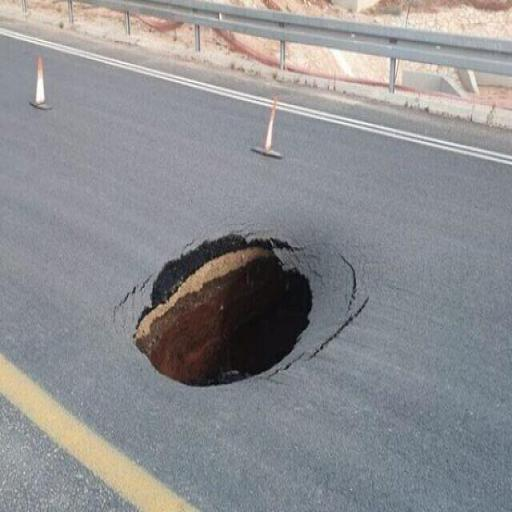Concentric_Crack: (134, 234, 367, 385)
